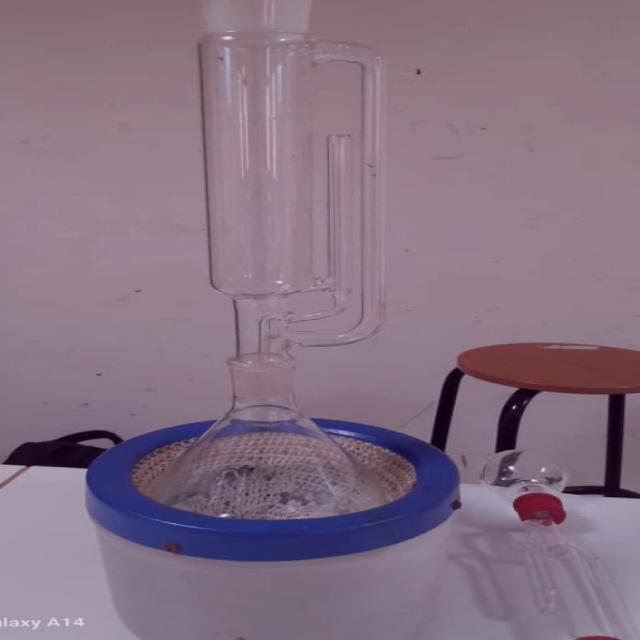Soxhlet: (143, 0, 411, 367)
